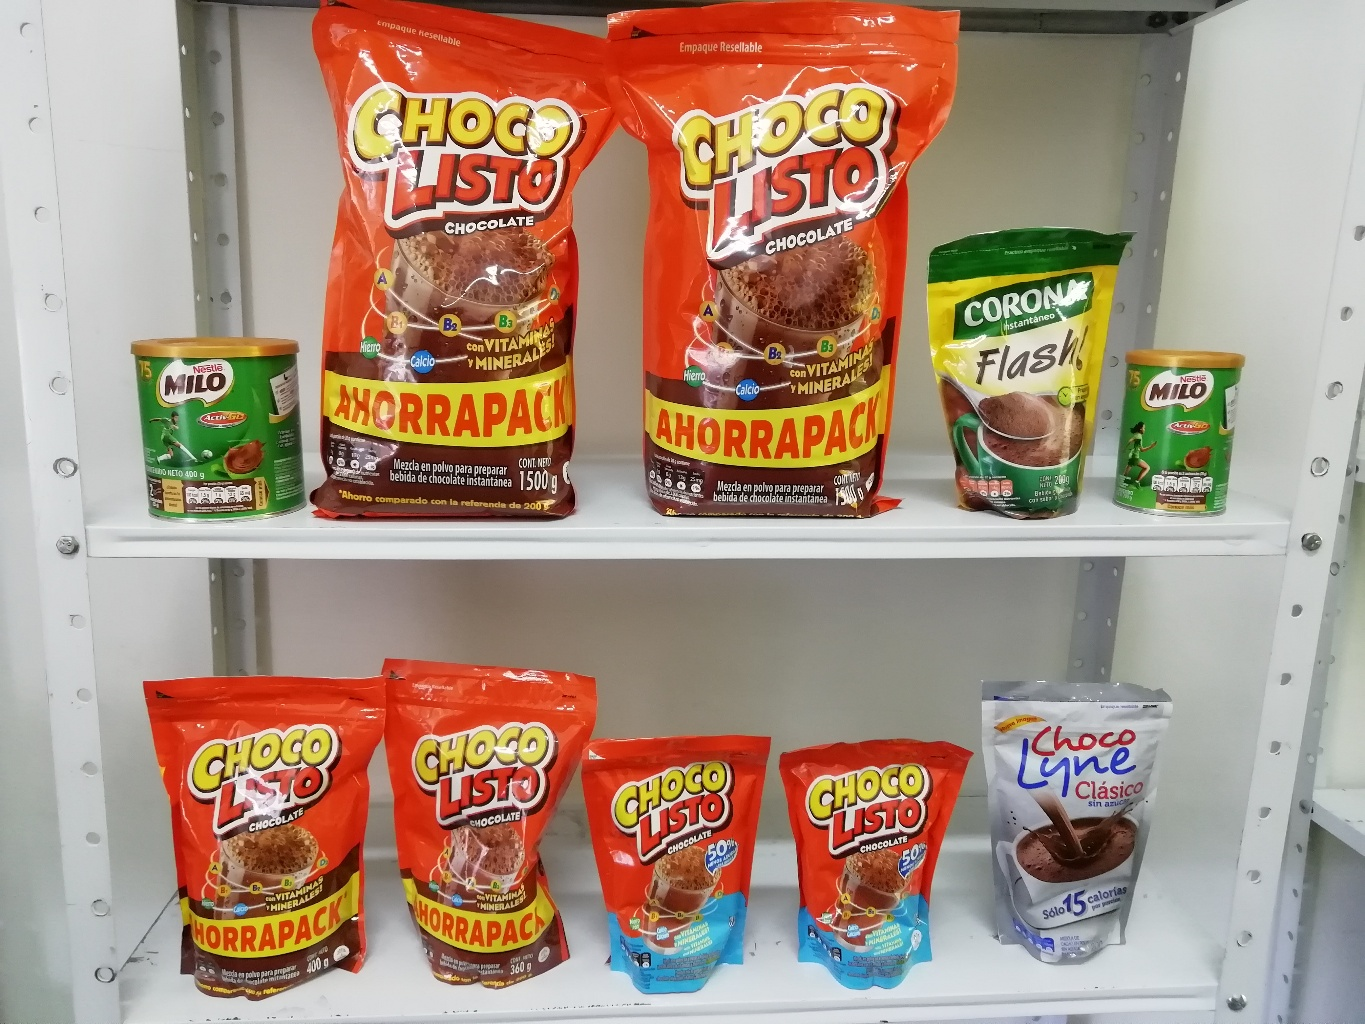COL0170103DYP1,500: (607, 3, 959, 529)
COL0170103DYP36000: (369, 652, 597, 1009)
COL0170103DYP40000: (127, 655, 389, 1006)
COL0170104DYP20000: (571, 731, 782, 993)
COL0170203LAT20000: (1127, 339, 1272, 517)
COL0170203LAT40000: (125, 335, 319, 523)
